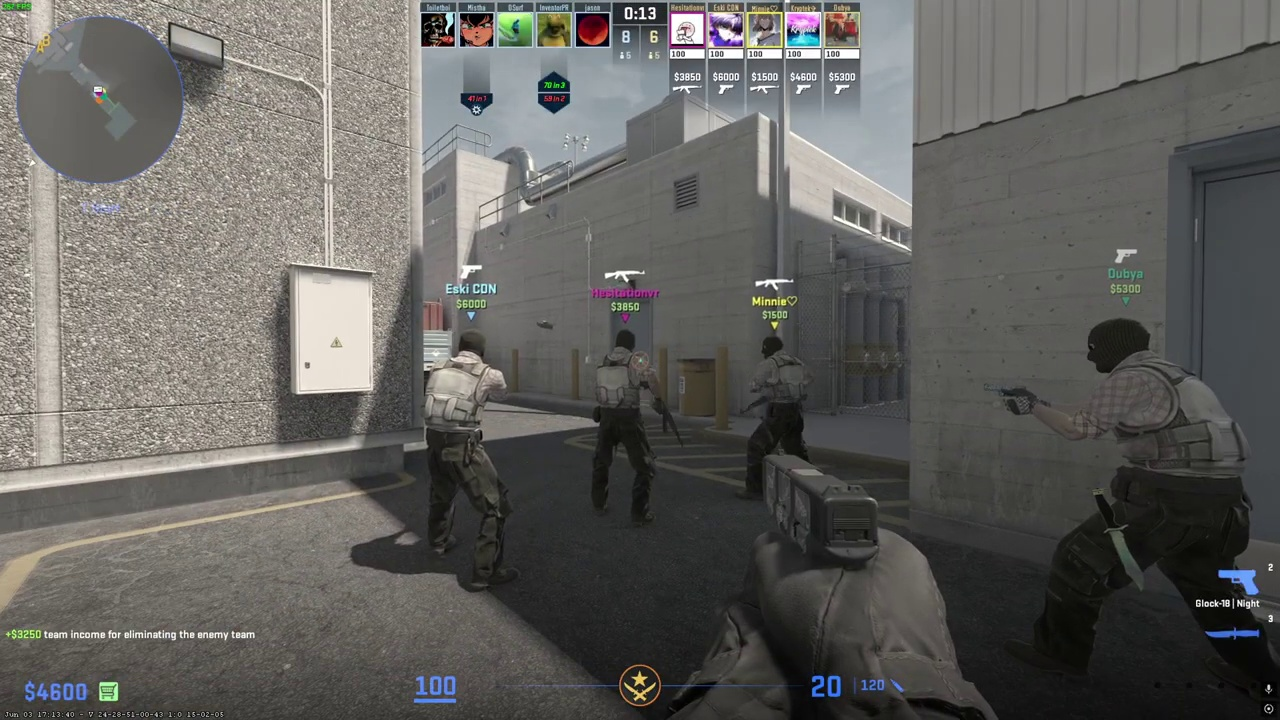Terrorist: (1022, 318, 1274, 704), (420, 329, 518, 591), (590, 329, 663, 528), (739, 335, 815, 500)
